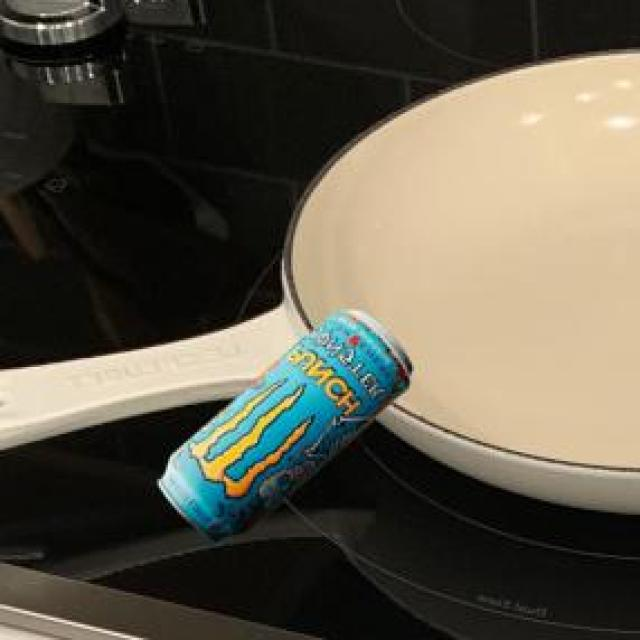logam: (162, 308, 415, 538)
